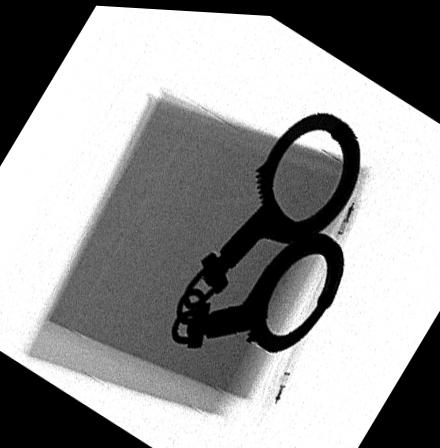HandCuffs: (171, 107, 360, 348)
